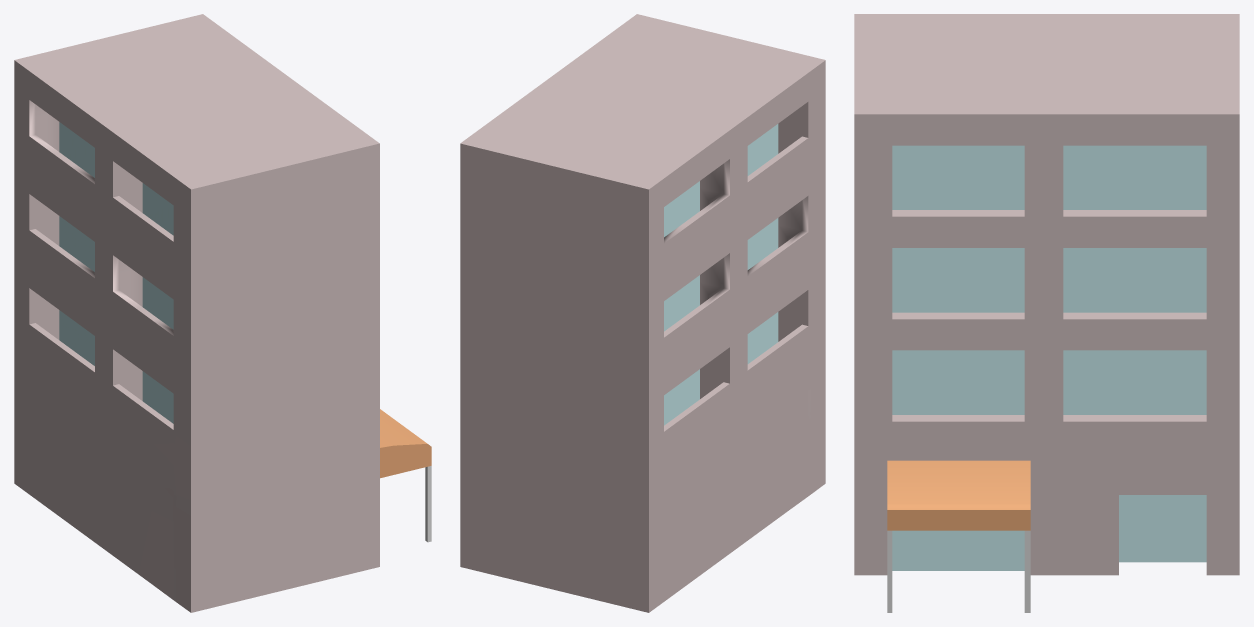
Rendered from Haneji_test7 1.fbx.
The picture shows the model from 3 angles, left to right: view 1: azimuth 30°, elevation 25°; view 2: azimuth 150°, elevation 25°; view 3: azimuth 270°, elevation 25°; orthographic projection. The views are drawn at different scales.
Visible parts, largest first — view 1: MiniBill5; view 2: MiniBill5; view 3: MiniBill5.
Boxes of the visible parts, box(x1,y1,x2,y2) form: MiniBill5: box(14, 14, 431, 612); MiniBill5: box(460, 14, 825, 612); MiniBill5: box(854, 14, 1239, 612).
Bounding box in the file's own units: 1265 × 2009 × 1514.
